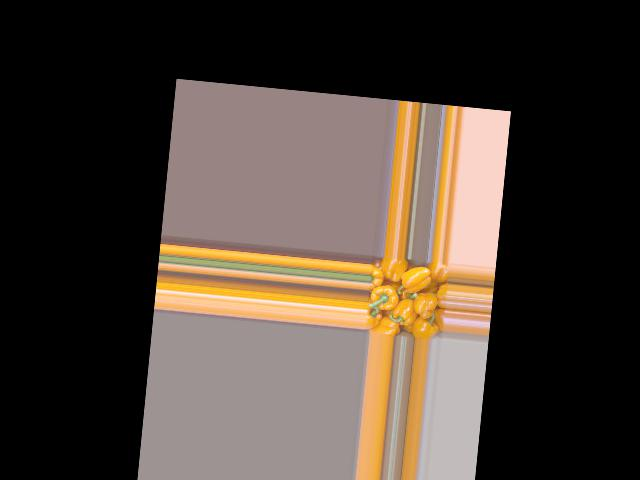bell_pepper: (426, 301, 446, 333)
